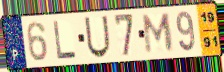6: (25, 20, 50, 63)
7: (113, 12, 136, 58)
9: (174, 10, 196, 53)
L: (51, 20, 78, 61)
M: (142, 12, 175, 55)
U: (83, 15, 112, 60)
